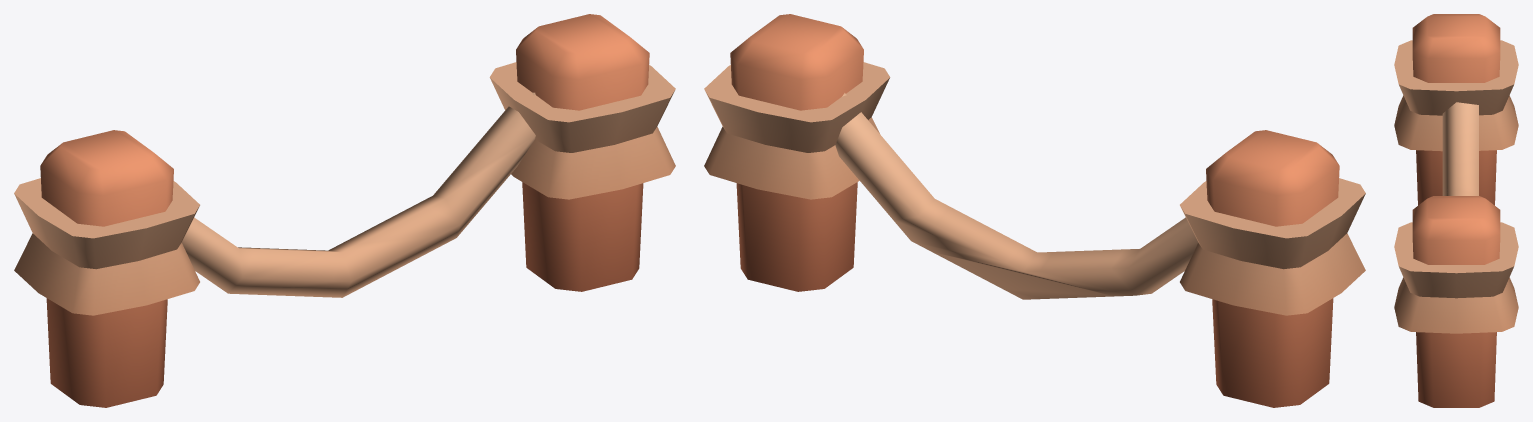
File: fence.obj
3 views of the same model, side by side, from view 1: azimuth 30°, elevation 25°; view 2: azimuth 150°, elevation 25°; view 3: azimuth 270°, elevation 25° (orthographic). The views are drawn at different scales.
Visible parts, largest first — view 1: fence; view 2: fence; view 3: fence.
Part boxes in pixels (x1,y1,x2,y2): fence: [14, 14, 675, 407]; fence: [704, 14, 1365, 407]; fence: [1394, 14, 1518, 407].
Bounding box in the file's own units: 1.1 × 0.4 × 0.2458.
1 material, 1 textured.
